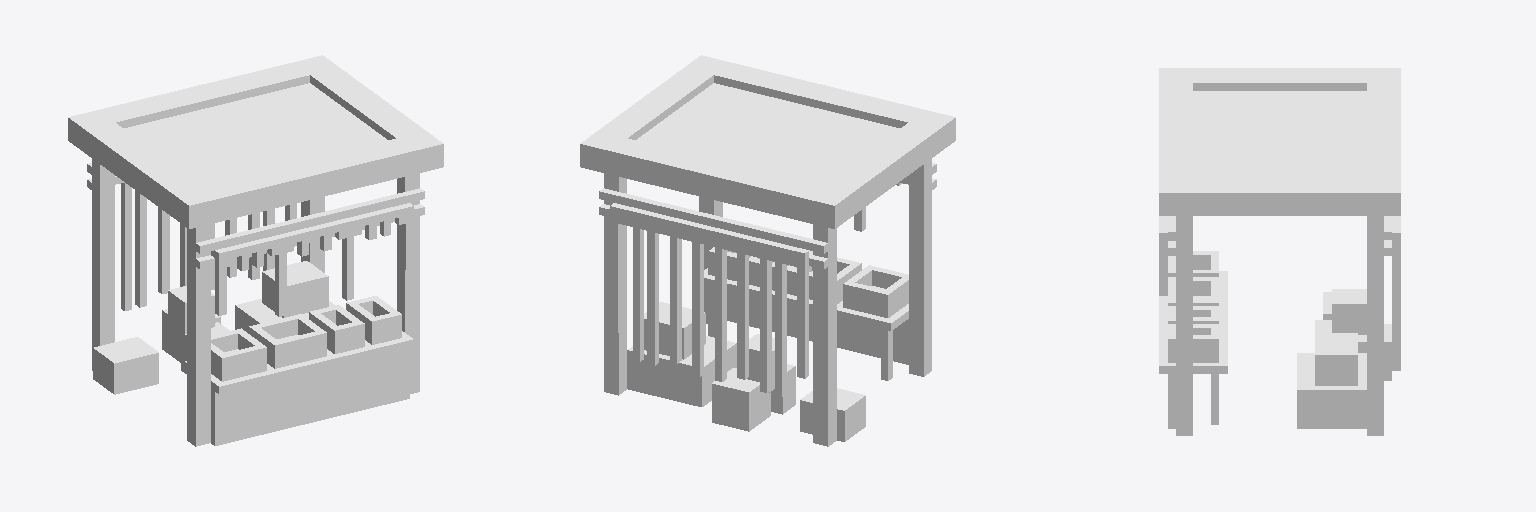
File: ExtraProp-8-Market.obj
3 renders of one model, left to right at view 1: azimuth 30°, elevation 25°; view 2: azimuth 150°, elevation 25°; view 3: azimuth 270°, elevation 25°, orthographic.
Parts seen in each view (by area): view 1: Market; view 2: Market; view 3: Market.
Boxes of the visible parts, x1=… form: Market: x1=68, y1=55, x2=443, y2=446; Market: x1=580, y1=55, x2=955, y2=446; Market: x1=1159, y1=68, x2=1400, y2=435.
Size of the model in its own units: 3.4 by 3.2 by 2.8.